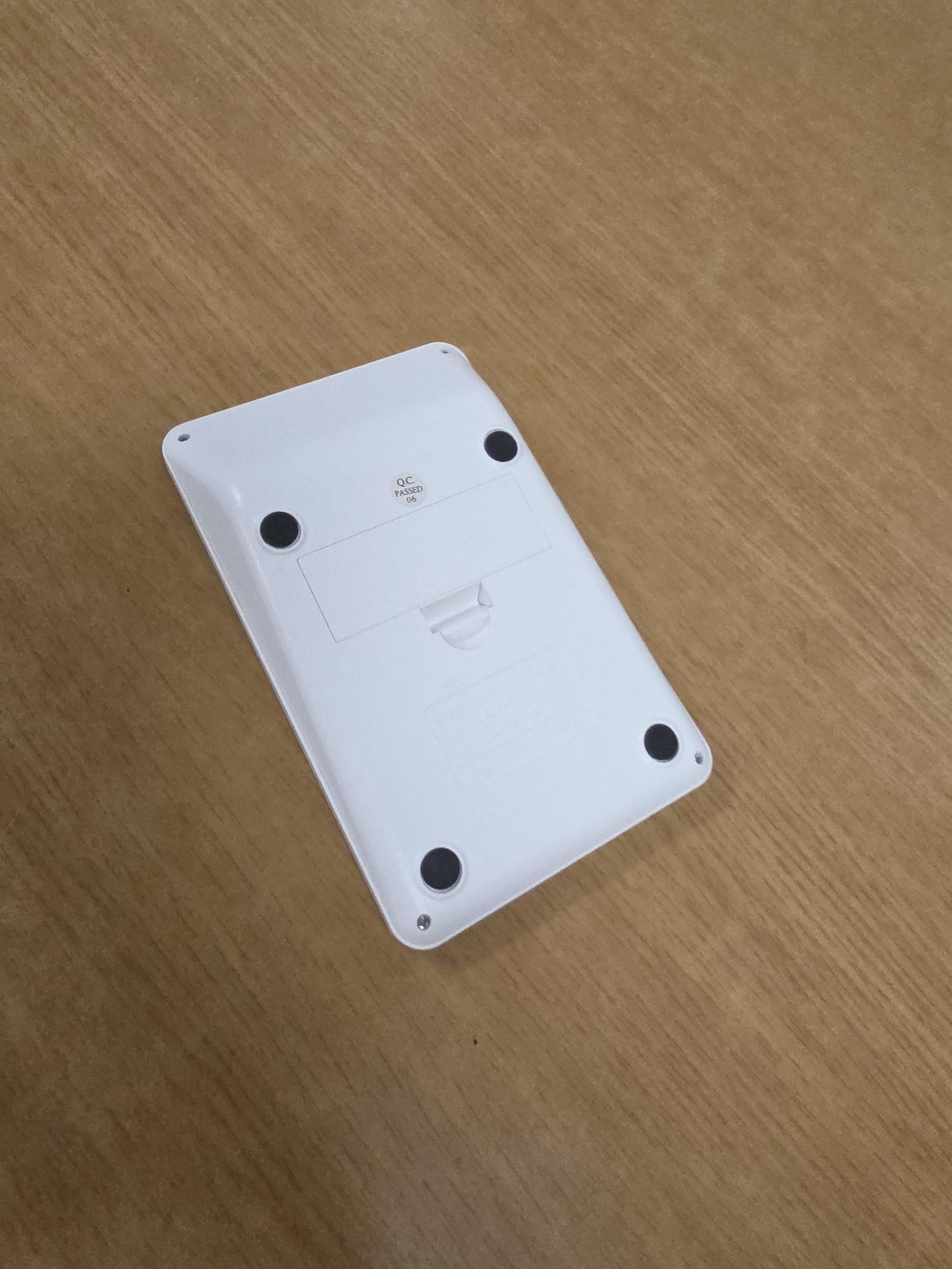calculator: (162, 341, 714, 950)
